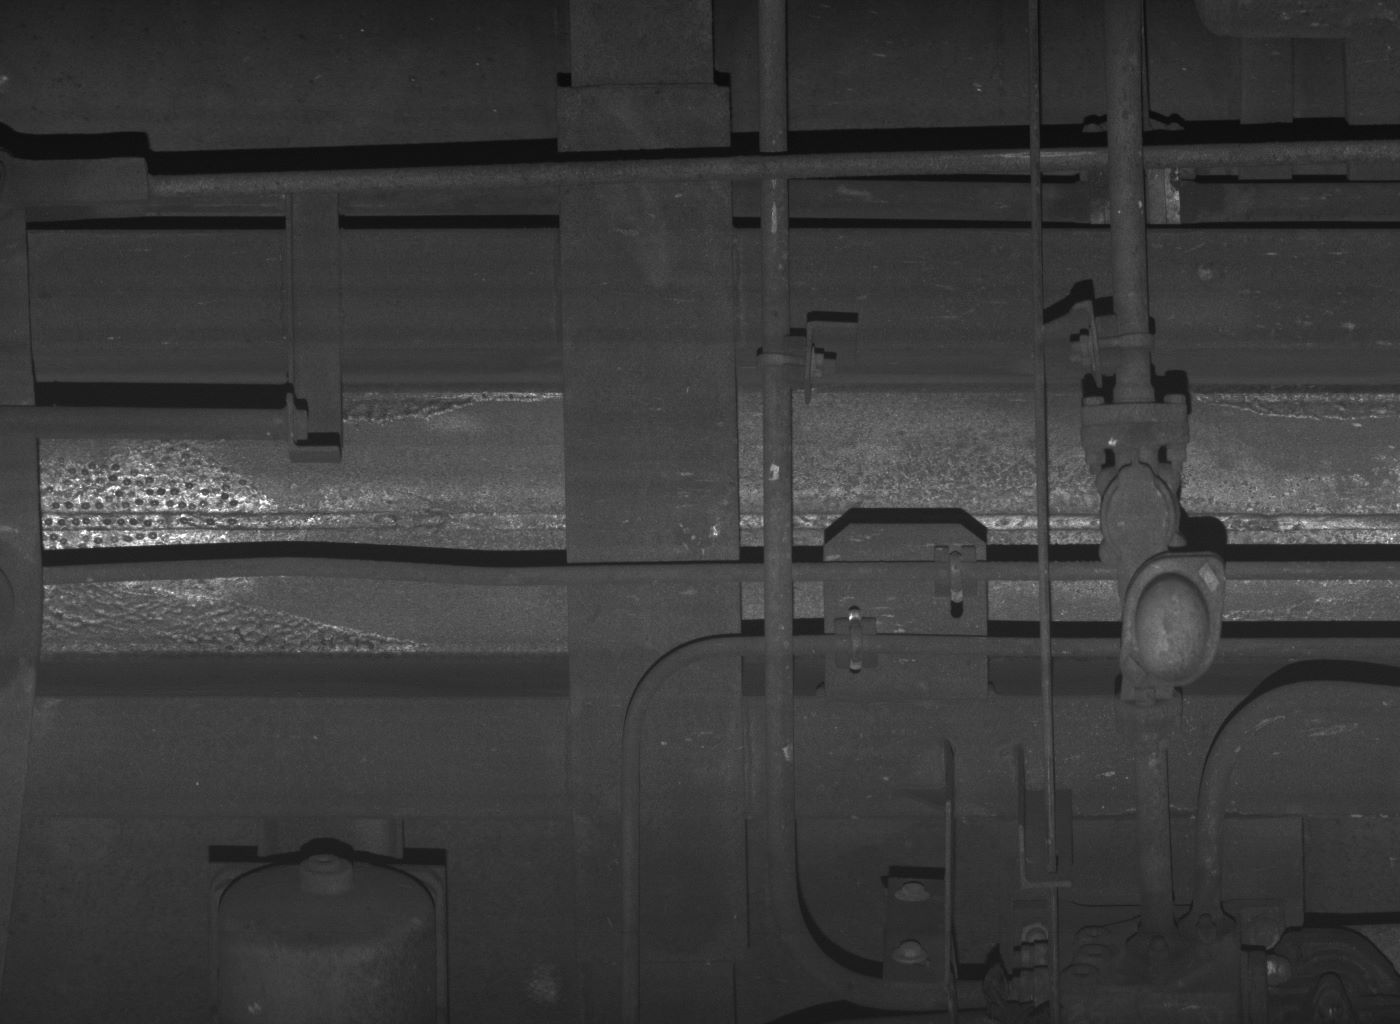normal: (1092, 464, 1186, 570)
